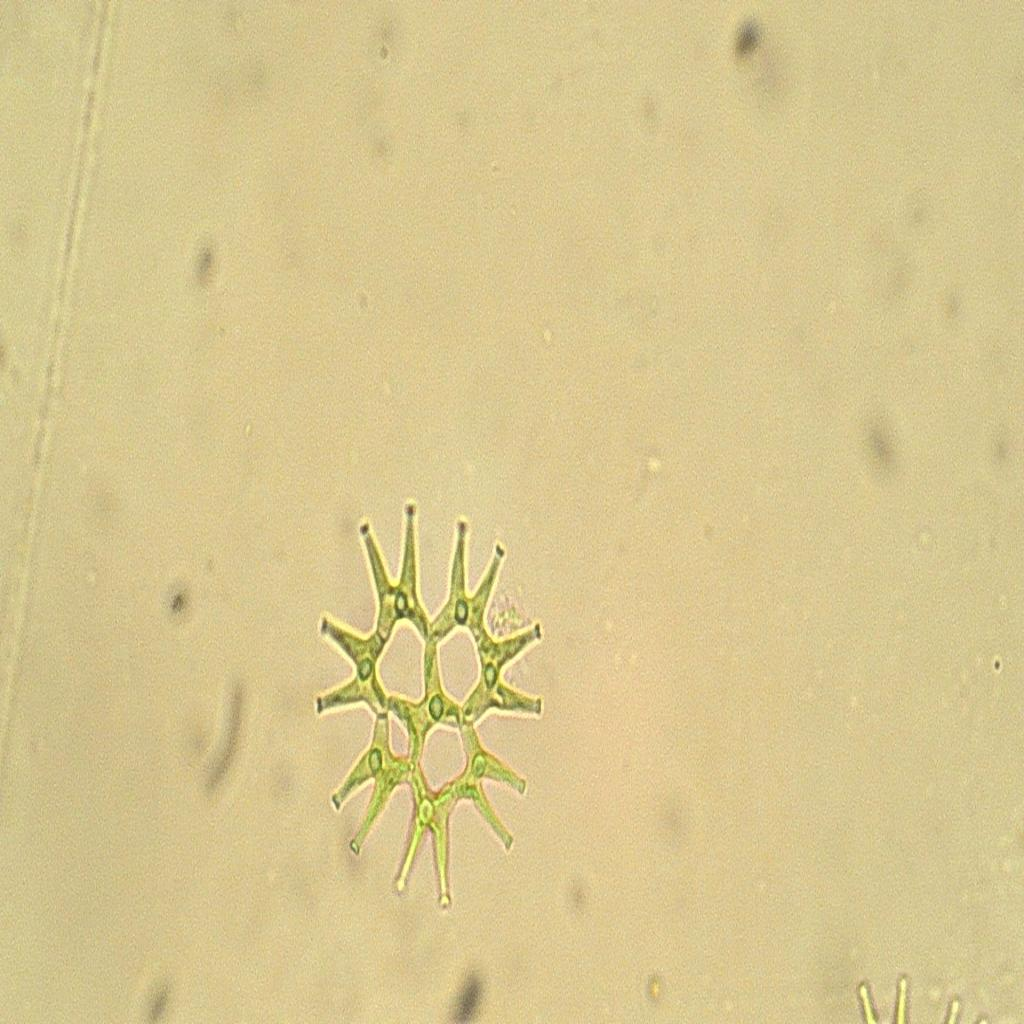Pediastrum_75T: (299, 475, 556, 942)
